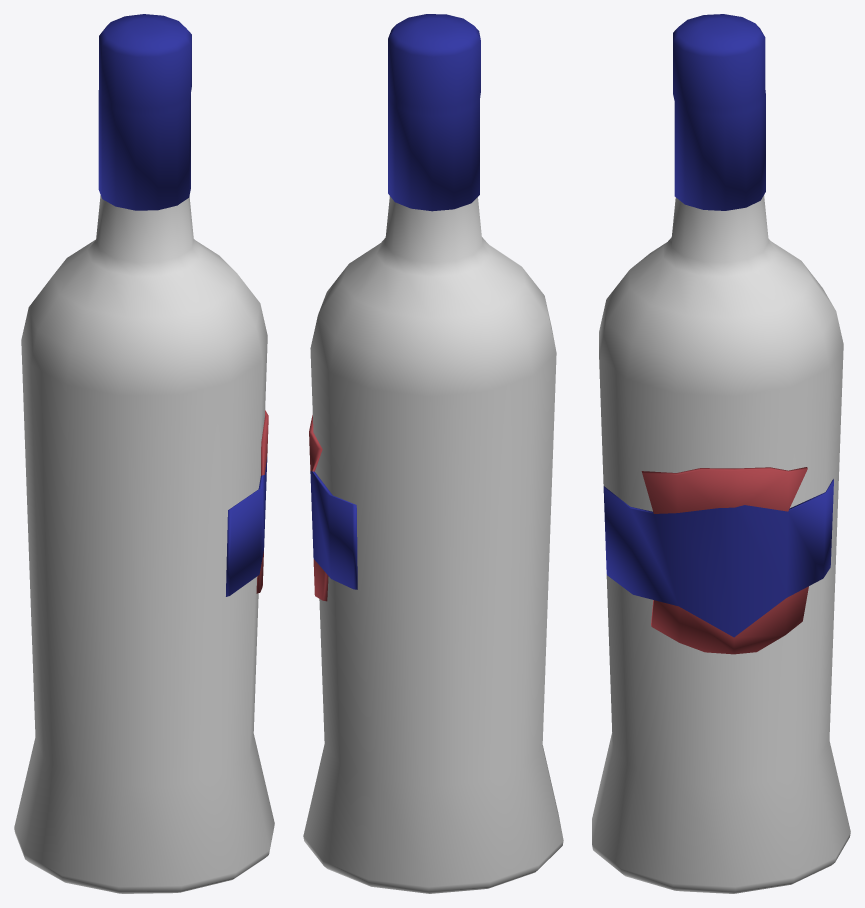
File: Polia.fbx
The picture shows the model from 3 angles, left to right: view 1: azimuth 30°, elevation 25°; view 2: azimuth 150°, elevation 25°; view 3: azimuth 270°, elevation 25°; orthographic projection.
Parts seen in each view (by area): view 1: Circle, Bouchon.001, Bouchon; view 2: Circle, Bouchon.001, Bouchon; view 3: Circle, Bouchon, Bouchon.001.
Boxes of the visible parts, <box> form: Circle: <box>14,195,274,893</box>; Bouchon.001: <box>98,14,191,210</box>; Bouchon: <box>226,410,268,596</box>; Circle: <box>303,196,563,893</box>; Bouchon.001: <box>388,14,480,211</box>; Bouchon: <box>309,415,357,601</box>; Circle: <box>592,195,850,893</box>; Bouchon: <box>603,467,833,654</box>; Bouchon.001: <box>673,14,765,210</box>.
Size of the model in its own units: 196 by 685 by 195.
